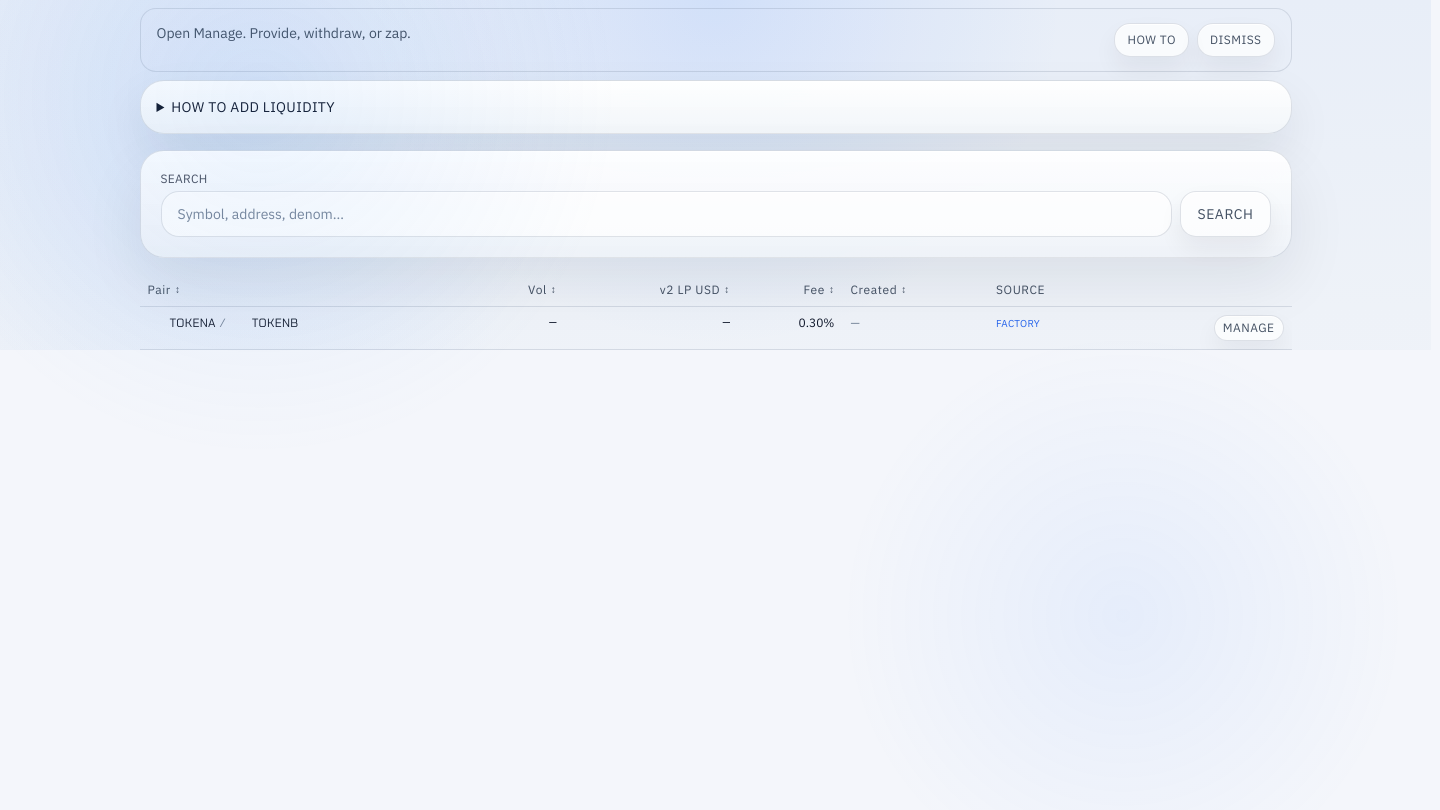
PoolPage › pair Manage IA (GitLab #660) › M2: four peer actions on a factory row, no Advanced disclosure
Click the button with test id "pool-row-manage": click(1249, 328) [1214,315,1284,341]
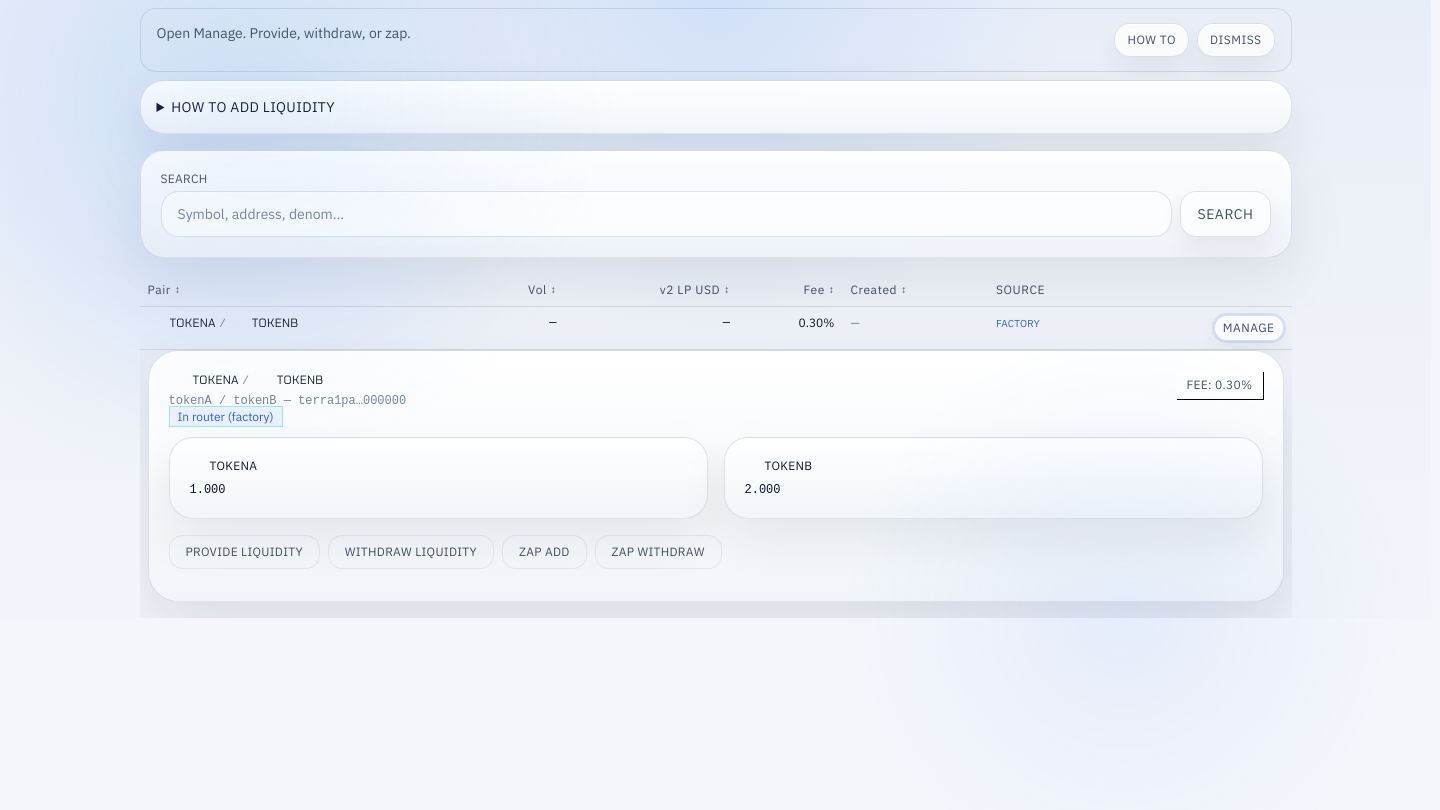
Expected: the element with test id "pool-manage-actions" is shown, [168,535,722,569]
Expected: the button with test id "pool-manage-tab-provide" is shown, [168,535,320,569]
Expected: the button with test id "pool-manage-tab-withdraw" is shown, [328,535,494,569]
